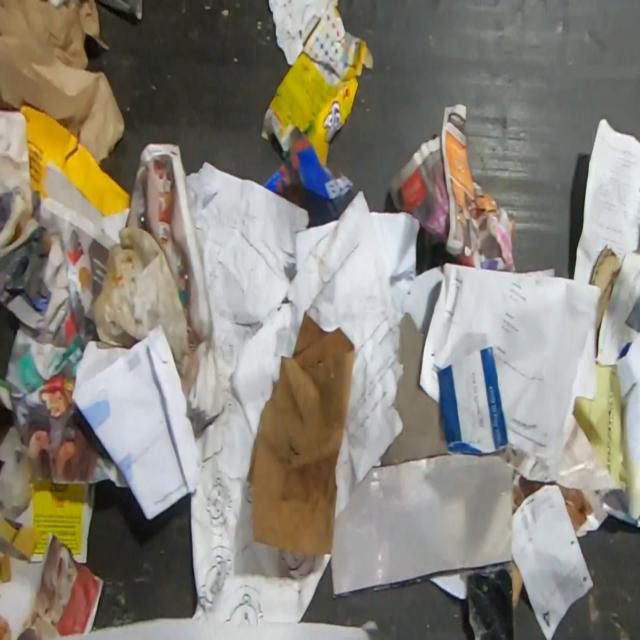cardboard: (260, 6, 374, 169), (379, 312, 451, 466), (590, 245, 622, 333)
